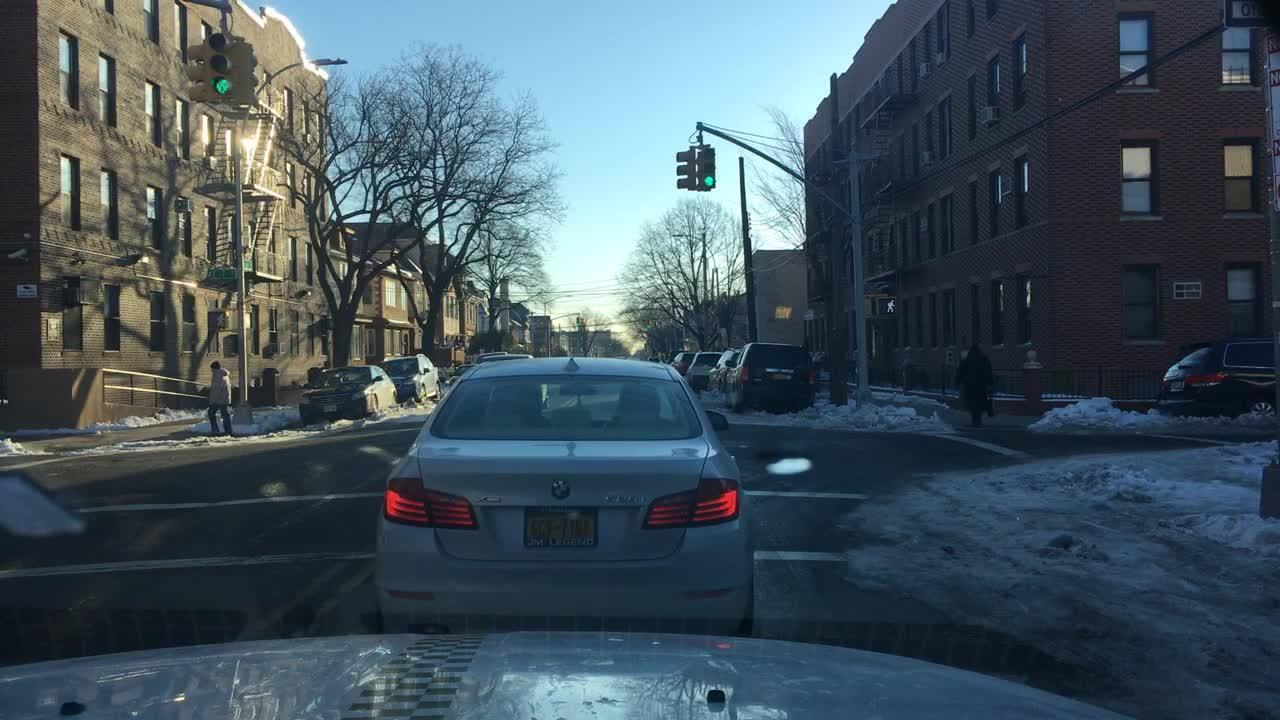bmw: (543, 472, 582, 508)
